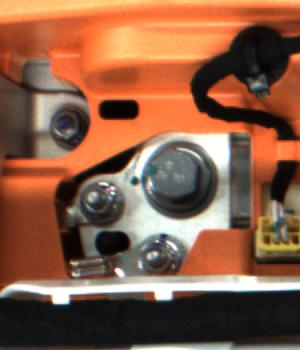nut_b: (138, 137, 229, 223)
